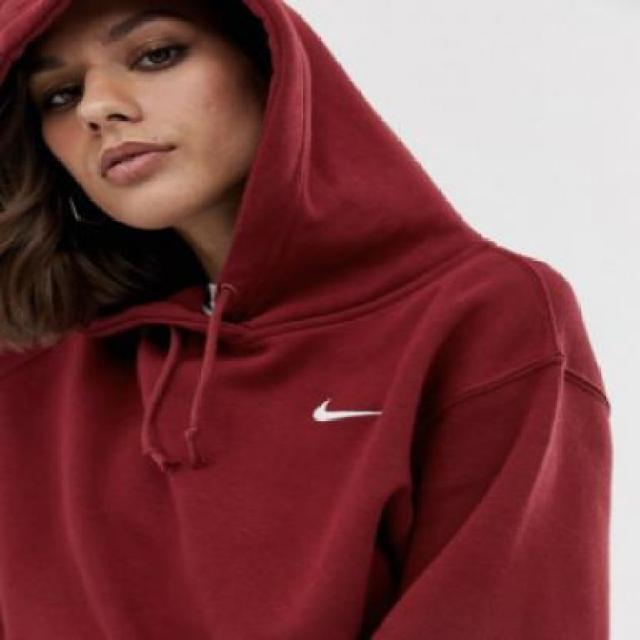Nike: (310, 397, 383, 419)
